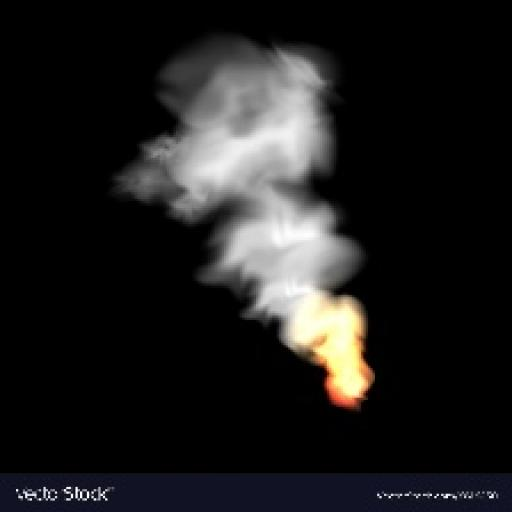fire and smoke: (117, 39, 372, 409)
